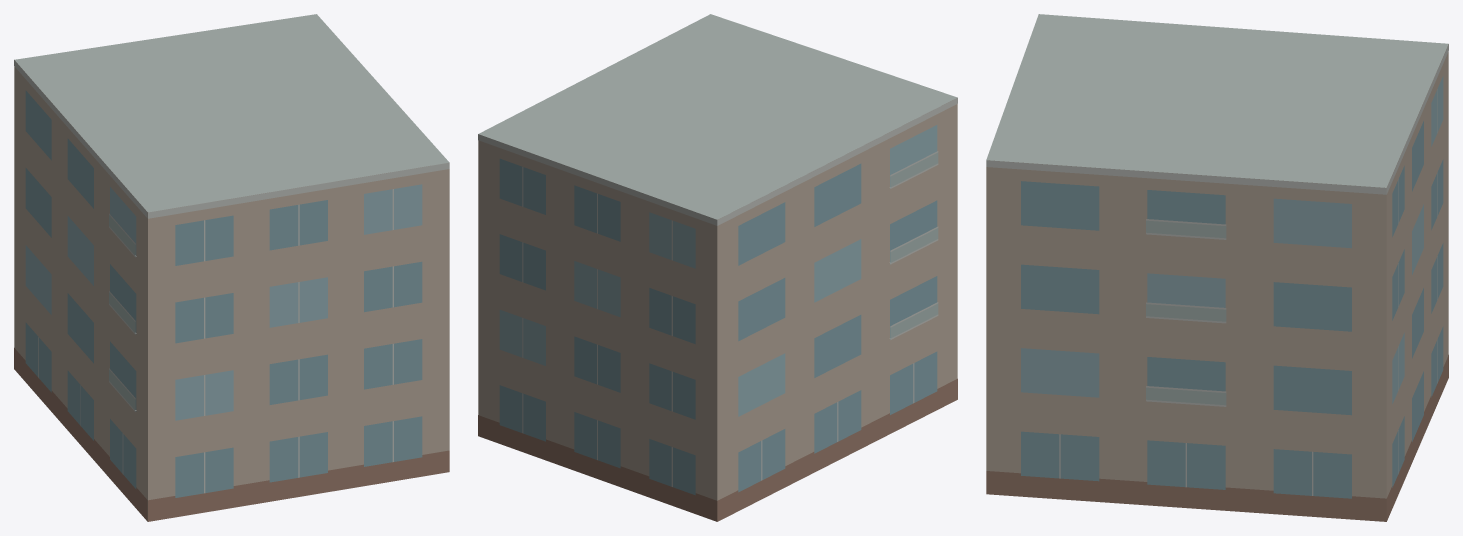
File: survey-upis-32676574.glb
3 views of the same model, side by side, from view 1: azimuth 30°, elevation 25°; view 2: azimuth 150°, elevation 25°; view 3: azimuth 270°, elevation 25° (orthographic). The views are drawn at different scales.
Visible parts, largest first — view 1: survey-upis-32676574.tmp; view 2: survey-upis-32676574.tmp; view 3: survey-upis-32676574.tmp.
Part boxes in pixels (box(x1,y1,x2,y2)): survey-upis-32676574.tmp: box(14, 14, 449, 521); survey-upis-32676574.tmp: box(478, 14, 957, 521); survey-upis-32676574.tmp: box(986, 14, 1448, 521).
Size of the model in its own units: 13.3 by 11.9 by 14.95.
